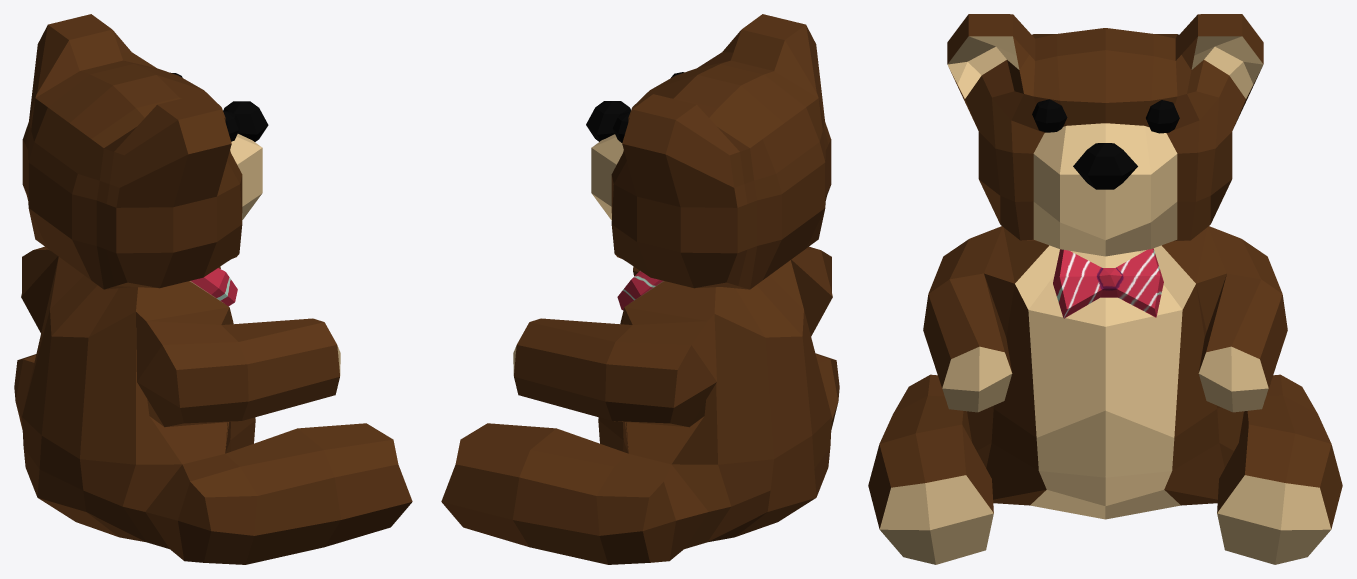
File: TeddyBear.fbx
3 views of the same model, side by side, from view 1: azimuth 30°, elevation 25°; view 2: azimuth 150°, elevation 25°; view 3: azimuth 270°, elevation 25° (orthographic). The views are drawn at different scales.
Parts seen in each view (by area): view 1: teddyBody, TeddyNose, BowTie; view 2: teddyBody, TeddyNose, BowTie; view 3: teddyBody, BowTie, TeddyNose, TeddyEyes.
Boxes of the visible parts, x1=… form: teddyBody: x1=14, y1=14, x2=412, y2=564; TeddyNose: x1=223, y1=101, x2=268, y2=141; BowTie: x1=190, y1=268, x2=237, y2=306; teddyBody: x1=441, y1=14, x2=839, y2=564; TeddyNose: x1=586, y1=101, x2=630, y2=141; BowTie: x1=617, y1=271, x2=663, y2=310; teddyBody: x1=868, y1=14, x2=1342, y2=564; BowTie: x1=1053, y1=248, x2=1163, y2=318; TeddyNose: x1=1073, y1=143, x2=1137, y2=189; TeddyEyes: x1=1032, y1=99, x2=1179, y2=133.
Size of the model in its own units: 428 by 653 by 601.
Materials: 4 (1 with a texture image).
